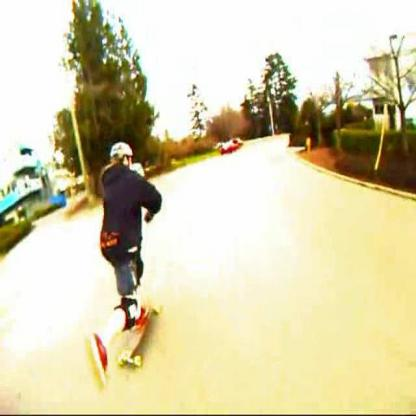other: (79, 296, 185, 366), (205, 134, 280, 198), (290, 131, 341, 171)
